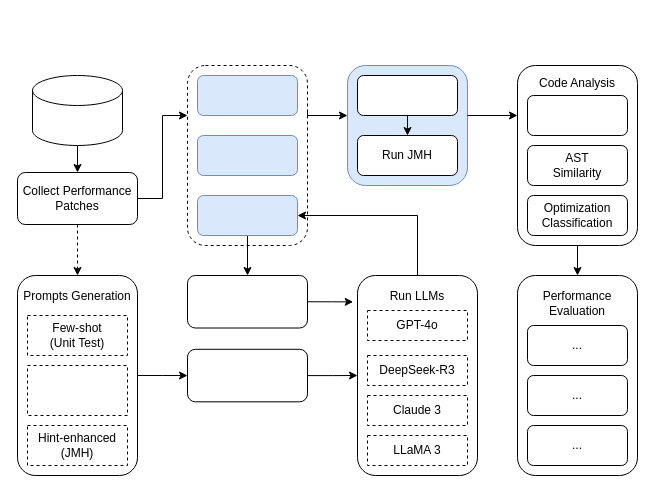
Image size: 655x493. Some labels were removed from this diagram. Each missing label, with the centre of its shape:
CodeBLEU Similarity: [577,115]
Developer Patch: [247,155]
Error-guided Prompt: [247,301]
Hint-enhanced (Perf Issue): [77,390]
Java Projects: [77,110]
LLM Patch: [247,215]
Prompts Combinations: [247,375]
Run Unit Test: [407,95]
Source Code: [247,95]
